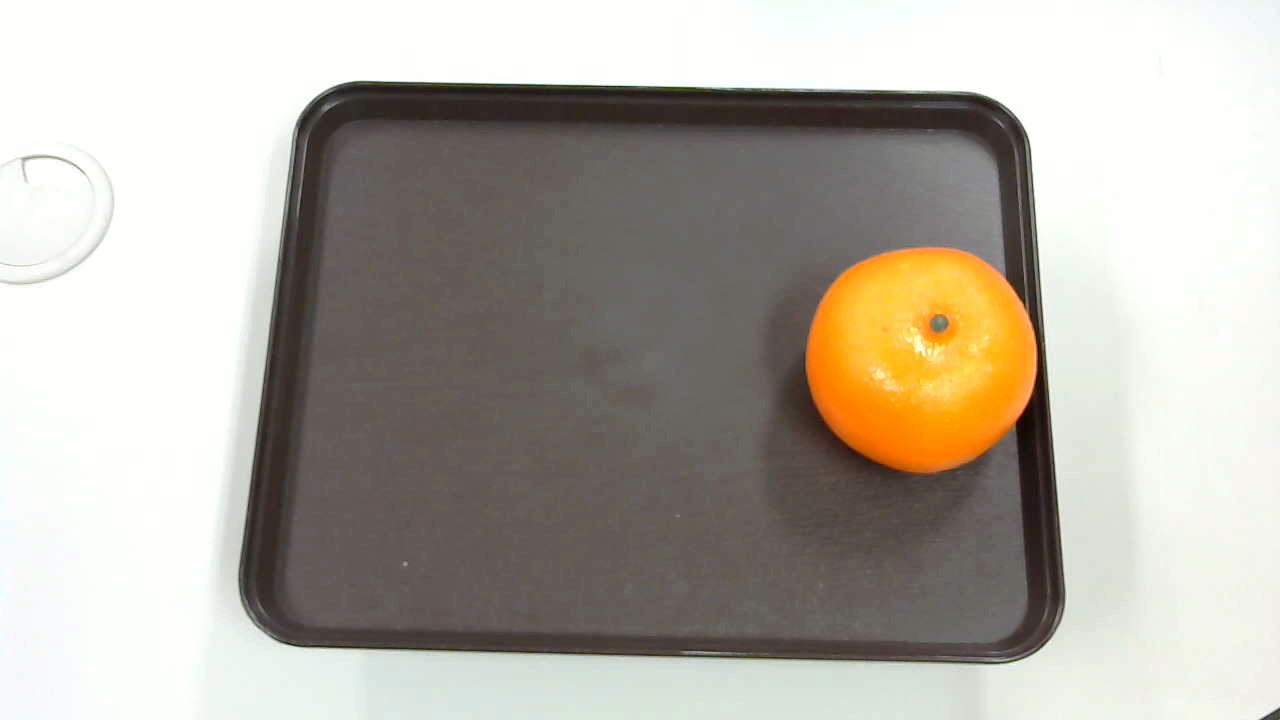orange: (795, 242, 1051, 480)
